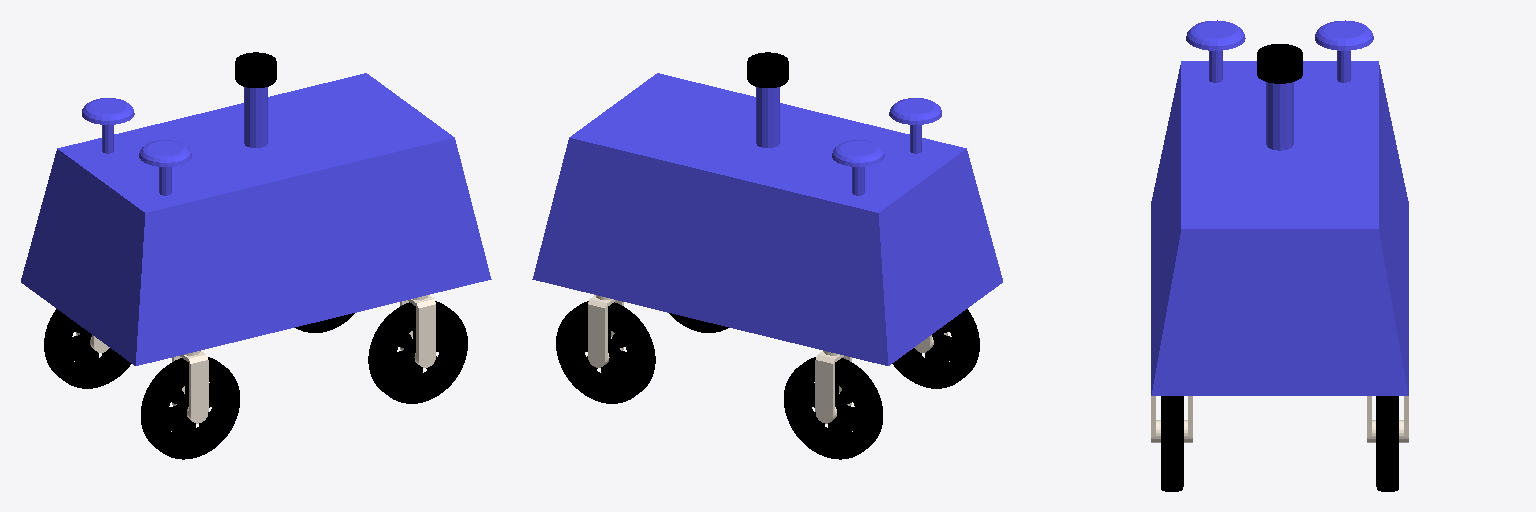
URDF robot description (car_4ws_4wd):
<?xml version="1.0" encoding="utf-8"?>
<!-- This URDF was automatically created by SolidWorks to URDF Exporter! Originally created by [author] ([email redacted]) 
     Commit Version: 1.6.0-4-g7f85cfe  Build Version: 1.6.7995.38578
     For more information, please see http://wiki.ros.org/sw_urdf_exporter -->
<robot
  name="car_4ws_4wd">
  <link
    name="base_link">
    <inertial>
      <origin
        xyz="-0.00117586528514695 -4.30552833609457E-17 0.174335815287564"
        rpy="0 0 0" />
      <mass
        value="40.2533565247656" />
      <inertia
        ixx="1.311634309655"
        ixy="1.64735322115376E-16"
        ixz="0.0137789561118299"
        iyy="3.43401128074704"
        iyz="-1.3755764102141E-16"
        izz="3.79965514788602" />
    </inertial>
    <visual>
      <origin
        xyz="0 0 0"
        rpy="0 0 0" />
      <geometry>
        <mesh
          filename="package://car_4ws_4wd/meshes/base_link.STL" />
      </geometry>
      <material
        name="">
        <color
          rgba="0.392156862745098 0.384313725490196 1 1" />
      </material>
    </visual>
    <collision>
      <origin
        xyz="0 0 0"
        rpy="0 0 0" />
      <geometry>
        <mesh
          filename="package://car_4ws_4wd/meshes/base_link.STL" />
      </geometry>
    </collision>
  </link>
  <link
    name="fl_steer_link">
    <inertial>
      <origin
        xyz="5.55111512312578E-17 5.55111512312578E-17 -0.0887276076955047"
        rpy="0 0 0" />
      <mass
        value="10" />
      <inertia
        ixx="0.0479041488909969"
        ixy="4.94445973536415E-18"
        ixz="-1.96308762932002E-18"
        iyy="0.0375622537766457"
        iyz="2.04345079483808E-18"
        izz="0.0141921219001303" />
    </inertial>
    <visual>
      <origin
        xyz="0 0 0"
        rpy="0 0 0" />
      <geometry>
        <mesh
          filename="package://car_4ws_4wd/meshes/fl_steer_link.STL" />
      </geometry>
      <material
        name="">
        <color
          rgba="1 0.96078431372549 0.905882352941176 1" />
      </material>
    </visual>
    <collision>
      <origin
        xyz="0 0 0"
        rpy="0 0 0" />
      <geometry>
        <mesh
          filename="package://car_4ws_4wd/meshes/fl_steer_link.STL" />
      </geometry>
    </collision>
  </link>
  <joint
    name="fl_steer_joint"
    type="revolute">
    <origin
      xyz="0.32 0.235 -0.01"
      rpy="0 0 0" />
    <parent
      link="base_link" />
    <child
      link="fl_steer_link" />
    <axis
      xyz="0 0 -1" />
    <limit
      lower="-0.55"
      upper="0.55"
      effort="100"
      velocity="1" />
  </joint>
  <link
    name="fl_drive_link">
    <inertial>
      <origin
        xyz="5.55111512312578E-17 1.66533453693773E-16 0"
        rpy="0 0 0" />
      <mass
        value="2.16662276325971" />
      <inertia
        ixx="0.0105784924083826"
        ixy="-2.32107504311249E-18"
        ixz="-3.29147472915797E-18"
        iyy="0.0105784924083826"
        iyz="2.86815712206063E-19"
        izz="0.0202757786355256" />
    </inertial>
    <visual>
      <origin
        xyz="0 0 0"
        rpy="0 0 0" />
      <geometry>
        <mesh
          filename="package://car_4ws_4wd/meshes/fl_drive_link.STL" />
      </geometry>
      <material
        name="">
        <color
          rgba="0 0 0 1" />
      </material>
    </visual>
    <collision>
      <origin
        xyz="0 0 0"
        rpy="0 0 0" />
      <geometry>
        <mesh
          filename="package://car_4ws_4wd/meshes/fl_drive_link.STL" />
      </geometry>
    </collision>
  </link>
  <joint
    name="fl_drive_joint"
    type="continuous">
    <origin
      xyz="0 0 -0.16"
      rpy="1.5707963267949 0 0" />
    <parent
      link="fl_steer_link" />
    <child
      link="fl_drive_link" />
    <axis
      xyz="0 0 1" />
  </joint>
  <link
    name="fr_steer_link">
    <inertial>
      <origin
        xyz="-5.55111512312578E-17 2.77555756156289E-17 -0.0887276076955047"
        rpy="0 0 0" />
      <mass
        value="10" />
      <inertia
        ixx="0.0479041488909969"
        ixy="2.72575887867997E-18"
        ixz="-6.24668436201888E-18"
        iyy="0.0375622537766457"
        iyz="6.09446998085633E-18"
        izz="0.0141921219001303" />
    </inertial>
    <visual>
      <origin
        xyz="0 0 0"
        rpy="0 0 0" />
      <geometry>
        <mesh
          filename="package://car_4ws_4wd/meshes/fr_steer_link.STL" />
      </geometry>
      <material
        name="">
        <color
          rgba="1 0.96078431372549 0.905882352941176 1" />
      </material>
    </visual>
    <collision>
      <origin
        xyz="0 0 0"
        rpy="0 0 0" />
      <geometry>
        <mesh
          filename="package://car_4ws_4wd/meshes/fr_steer_link.STL" />
      </geometry>
    </collision>
  </link>
  <joint
    name="fr_steer_joint"
    type="revolute">
    <origin
      xyz="0.32 -0.235 -0.00999999999999999"
      rpy="0 0 0" />
    <parent
      link="base_link" />
    <child
      link="fr_steer_link" />
    <axis
      xyz="0 0 -1" />
    <limit
      lower="-0.55"
      upper="0.55"
      effort="100"
      velocity="1" />
  </joint>
  <link
    name="fr_drive_link">
    <inertial>
      <origin
        xyz="5.55111512312578E-17 1.38777878078145E-16 -5.55111512312578E-17"
        rpy="0 0 0" />
      <mass
        value="2.16662276325971" />
      <inertia
        ixx="0.0105784924083826"
        ixy="-2.21723853185535E-18"
        ixz="-4.05189609818123E-18"
        iyy="0.0105784924083826"
        iyz="3.14161592140784E-18"
        izz="0.0202757786355255" />
    </inertial>
    <visual>
      <origin
        xyz="0 0 0"
        rpy="0 0 0" />
      <geometry>
        <mesh
          filename="package://car_4ws_4wd/meshes/fr_drive_link.STL" />
      </geometry>
      <material
        name="">
        <color
          rgba="0 0 0 1" />
      </material>
    </visual>
    <collision>
      <origin
        xyz="0 0 0"
        rpy="0 0 0" />
      <geometry>
        <mesh
          filename="package://car_4ws_4wd/meshes/fr_drive_link.STL" />
      </geometry>
    </collision>
  </link>
  <joint
    name="fr_drive_joint"
    type="continuous">
    <origin
      xyz="0 0 -0.16"
      rpy="1.5707963267949 0 0" />
    <parent
      link="fr_steer_link" />
    <child
      link="fr_drive_link" />
    <axis
      xyz="0 0 1" />
  </joint>
  <link
    name="rl_steer_link">
    <inertial>
      <origin
        xyz="5.55111512312578E-17 -8.32667268468867E-17 -0.0887276076955047"
        rpy="0 0 0" />
      <mass
        value="10" />
      <inertia
        ixx="0.0479041488909969"
        ixy="-9.86394100270256E-19"
        ixz="1.88993973604895E-17"
        iyy="0.0375622537766457"
        iyz="-3.45987688850248E-17"
        izz="0.0141921219001303" />
    </inertial>
    <visual>
      <origin
        xyz="0 0 0"
        rpy="0 0 0" />
      <geometry>
        <mesh
          filename="package://car_4ws_4wd/meshes/rl_steer_link.STL" />
      </geometry>
      <material
        name="">
        <color
          rgba="1 0.96078431372549 0.905882352941176 1" />
      </material>
    </visual>
    <collision>
      <origin
        xyz="0 0 0"
        rpy="0 0 0" />
      <geometry>
        <mesh
          filename="package://car_4ws_4wd/meshes/rl_steer_link.STL" />
      </geometry>
    </collision>
  </link>
  <joint
    name="rl_steer_joint"
    type="revolute">
    <origin
      xyz="-0.32 0.235 -0.01"
      rpy="0 0 0" />
    <parent
      link="base_link" />
    <child
      link="rl_steer_link" />
    <axis
      xyz="0 0 -1" />
    <limit
      lower="-0.55"
      upper="0.55"
      effort="100"
      velocity="1" />
  </joint>
  <link
    name="rl_drive_link">
    <inertial>
      <origin
        xyz="1.11022302462516E-16 1.38777878078145E-16 -2.77555756156289E-17"
        rpy="0 0 0" />
      <mass
        value="2.16662276325971" />
      <inertia
        ixx="0.0105784924083827"
        ixy="-1.64270547161544E-18"
        ixz="-2.9596986991524E-18"
        iyy="0.0105784924083827"
        iyz="1.29365881677942E-17"
        izz="0.0202757786355256" />
    </inertial>
    <visual>
      <origin
        xyz="0 0 0"
        rpy="0 0 0" />
      <geometry>
        <mesh
          filename="package://car_4ws_4wd/meshes/rl_drive_link.STL" />
      </geometry>
      <material
        name="">
        <color
          rgba="0 0 0 1" />
      </material>
    </visual>
    <collision>
      <origin
        xyz="0 0 0"
        rpy="0 0 0" />
      <geometry>
        <mesh
          filename="package://car_4ws_4wd/meshes/rl_drive_link.STL" />
      </geometry>
    </collision>
  </link>
  <joint
    name="rl_drive_joint"
    type="continuous">
    <origin
      xyz="0 0 -0.16"
      rpy="1.5707963267949 0 0" />
    <parent
      link="rl_steer_link" />
    <child
      link="rl_drive_link" />
    <axis
      xyz="0 0 1" />
  </joint>
  <link
    name="rr_steer_link">
    <inertial>
      <origin
        xyz="0 -2.7756E-17 -0.088728"
        rpy="0 0 0" />
      <mass
        value="10" />
      <inertia
        ixx="0.047904"
        ixy="2.4387E-18"
        ixz="-5.5151E-18"
        iyy="0.037562"
        iyz="-5.8473E-18"
        izz="0.014192" />
    </inertial>
    <visual>
      <origin
        xyz="0 0 0"
        rpy="0 0 0" />
      <geometry>
        <mesh
          filename="package://car_4ws_4wd/meshes/rr_steer_link.STL" />
      </geometry>
      <material
        name="">
        <color
          rgba="1 0.96078 0.90588 1" />
      </material>
    </visual>
    <collision>
      <origin
        xyz="0 0 0"
        rpy="0 0 0" />
      <geometry>
        <mesh
          filename="package://car_4ws_4wd/meshes/rr_steer_link.STL" />
      </geometry>
    </collision>
  </link>
  <joint
    name="rr_steer_joint"
    type="revolute">
    <origin
      xyz="-0.32 -0.235 -0.01"
      rpy="0 0 0" />
    <parent
      link="base_link" />
    <child
      link="rr_steer_link" />
    <axis
      xyz="0 0 -1" />
    <limit
      lower="-0.55"
      upper="0.55"
      effort="100"
      velocity="1" />
  </joint>
  <link
    name="rr_drive_link">
    <inertial>
      <origin
        xyz="5.5511E-17 1.3878E-16 2.7756E-17"
        rpy="0 0 0" />
      <mass
        value="2.1666" />
      <inertia
        ixx="0.010578"
        ixy="-2.5643E-18"
        ixz="-3.6716E-18"
        iyy="0.010578"
        iyz="2.8927E-18"
        izz="0.020276" />
    </inertial>
    <visual>
      <origin
        xyz="0 0 0"
        rpy="0 0 0" />
      <geometry>
        <mesh
          filename="package://car_4ws_4wd/meshes/rr_drive_link.STL" />
      </geometry>
      <material
        name="">
        <color
          rgba="0 0 0 1" />
      </material>
    </visual>
    <collision>
      <origin
        xyz="0 0 0"
        rpy="0 0 0" />
      <geometry>
        <mesh
          filename="package://car_4ws_4wd/meshes/rr_drive_link.STL" />
      </geometry>
    </collision>
  </link>
  <joint
    name="rr_drive_joint"
    type="continuous">
    <origin
      xyz="0 0 -0.16"
      rpy="1.5707963267949 0 0" />
    <parent
      link="rr_steer_link" />
    <child
      link="rr_drive_link" />
    <axis
      xyz="0 0 1" />
  </joint>
  <link
    name="lidar_link">
    <inertial>
      <origin
        xyz="-3.4211E-49 9.7454E-19 1.1102E-16"
        rpy="0 0 0" />
      <mass
        value="0.3927" />
      <inertia
        ixx="0.00032725"
        ixy="9.7388E-52"
        ixz="-6.1103E-36"
        iyy="0.00032725"
        iyz="-3.3795E-35"
        izz="0.00049087" />
    </inertial>
    <visual>
      <origin
        xyz="0 0 0"
        rpy="0 0 0" />
      <geometry>
        <mesh
          filename="package://car_4ws_4wd/meshes/lidar_link.STL" />
      </geometry>
      <material
        name="">
        <color
          rgba="0 0 0 1" />
      </material>
    </visual>
    <collision>
      <origin
        xyz="0 0 0"
        rpy="0 0 0" />
      <geometry>
        <mesh
          filename="package://car_4ws_4wd/meshes/lidar_link.STL" />
      </geometry>
    </collision>
  </link>
  <joint
    name="lidar_joint"
    type="fixed">
    <origin
      xyz="0 0 0.565"
      rpy="0 0 0" />
    <parent
      link="base_link" />
    <child
      link="lidar_link" />
    <axis
      xyz="0 0 0" />
  </joint>
</robot>

--- Facts derived from the render (not from the file) ---
3 views of the same robot in one strip: view 1: azimuth 30°, elevation 25°; view 2: azimuth 150°, elevation 25°; view 3: azimuth 270°, elevation 25° (orthographic).
Robot: car_4ws_4wd — 10 links, 9 joints (4 revolute, 4 continuous, 1 fixed); root link base_link; default pose: all joints at 0.
Links seen in each view (by area): view 1: base_link, fr_drive_link, rr_drive_link, rl_drive_link, rr_steer_link, fr_steer_link, lidar_link; view 2: base_link, fl_drive_link, rl_drive_link, rr_drive_link, rl_steer_link, fl_steer_link, lidar_link; view 3: base_link, fl_drive_link, fr_drive_link, lidar_link, fl_steer_link, fr_steer_link.
Boxes of the visible links, x1,y1,x2,y2 form: base_link: [21, 73, 491, 365]; fr_drive_link: [368, 301, 467, 403]; rr_drive_link: [141, 357, 239, 459]; rl_drive_link: [44, 309, 131, 388]; rr_steer_link: [172, 351, 208, 423]; fr_steer_link: [400, 295, 435, 367]; lidar_link: [235, 52, 276, 87]; base_link: [532, 73, 1002, 365]; fl_drive_link: [556, 301, 655, 403]; rl_drive_link: [784, 357, 882, 459]; rr_drive_link: [892, 309, 979, 388]; rl_steer_link: [815, 351, 851, 423]; fl_steer_link: [588, 295, 623, 367]; lidar_link: [747, 52, 788, 87]; base_link: [1151, 20, 1408, 395]; fl_drive_link: [1376, 396, 1398, 491]; fr_drive_link: [1161, 396, 1183, 491]; lidar_link: [1257, 44, 1302, 83]; fl_steer_link: [1367, 396, 1408, 442]; fr_steer_link: [1151, 396, 1192, 442].
Size in the robot's own frame: 1 by 0.56 by 0.89 metres.
Meshes: 10 distinct files referenced, 10 mesh visuals loaded (10 binary STL).